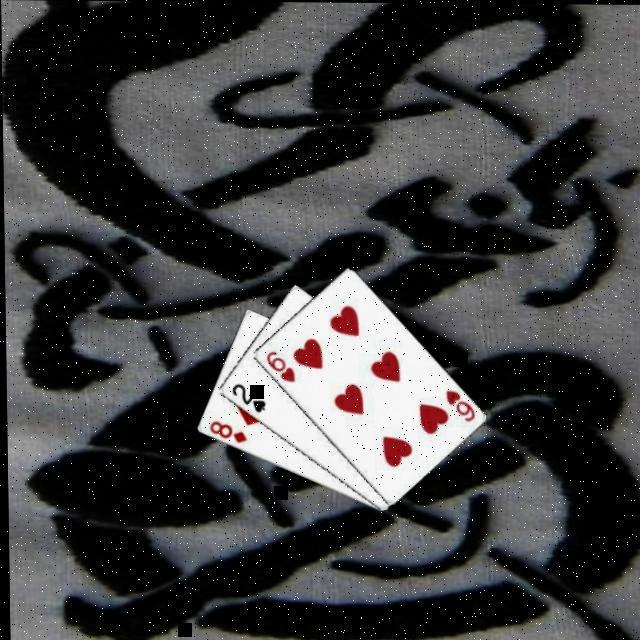2S: (225, 382, 265, 416)
6H: (439, 389, 473, 426), (260, 349, 294, 385)
8D: (202, 420, 246, 447)
